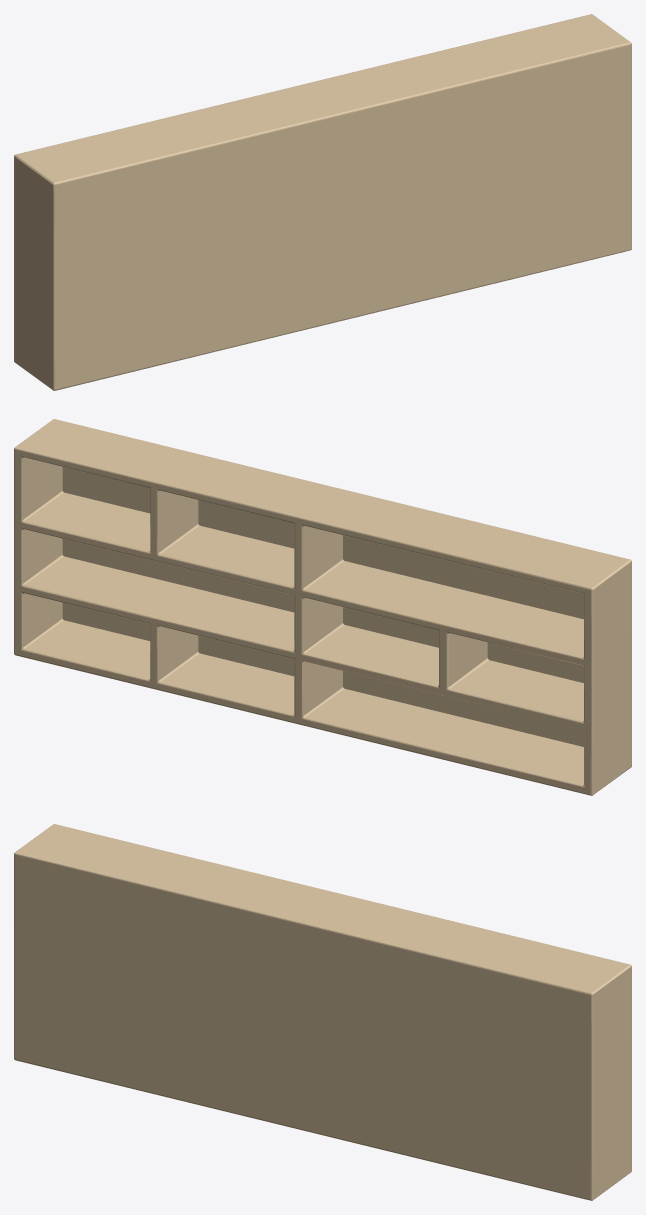
The model's file is shelf4-19.glb.
3 views of the same model, one above another, from view 1: azimuth 30°, elevation 25°; view 2: azimuth 150°, elevation 25°; view 3: azimuth 330°, elevation 25° (orthographic).
Visible parts, largest first — view 1: Bookshellf; view 2: Bookshellf; view 3: Bookshellf.
Part boxes in pixels (left/top/right/bottom): Bookshellf: left=14, top=14, right=631, bottom=390; Bookshellf: left=14, top=419, right=631, bottom=795; Bookshellf: left=14, top=824, right=631, bottom=1200.
Size of the model in its own units: 13.22 by 4.54 by 1.59.
1 material, 1 textured.
